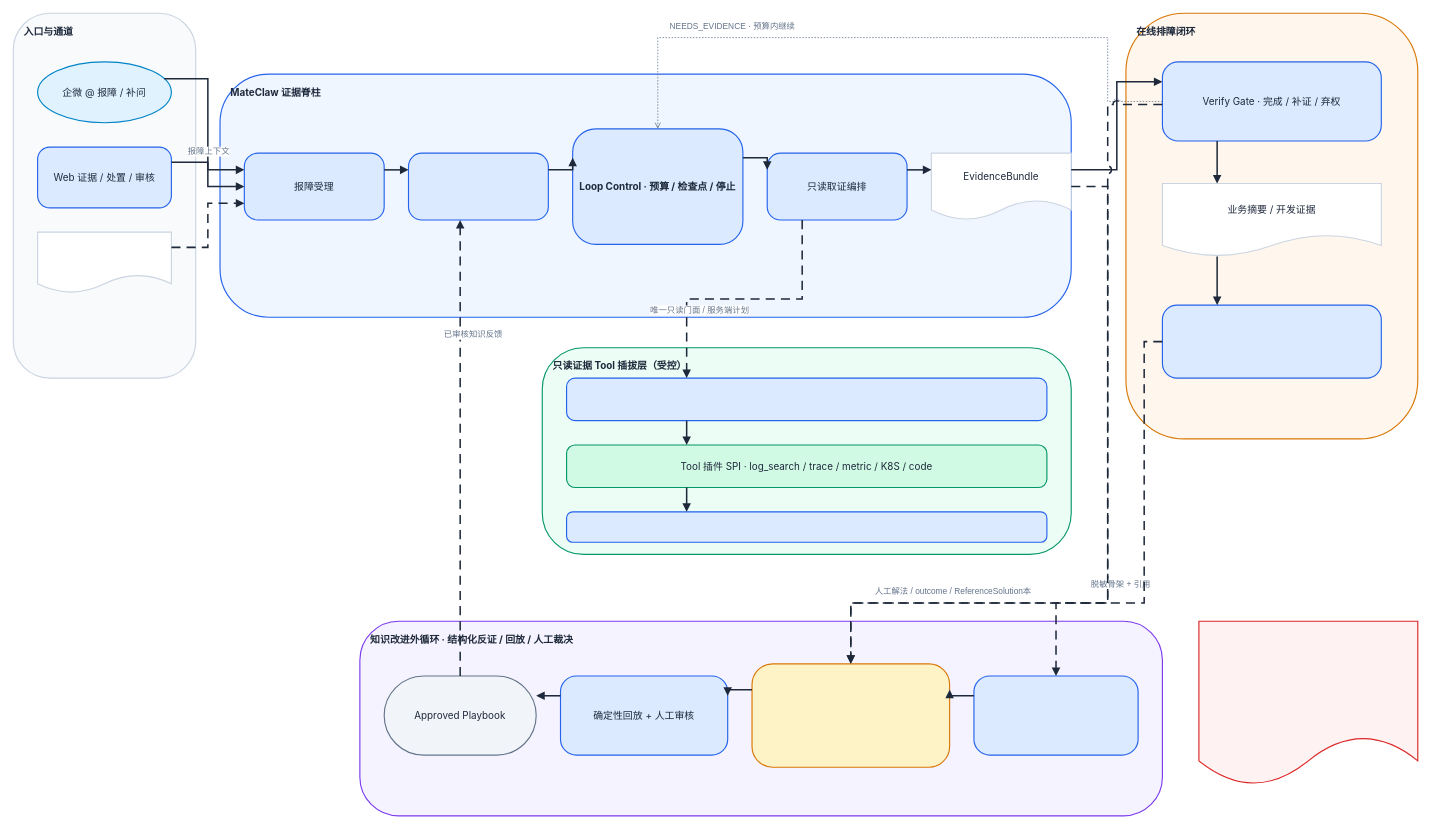
Some shapes in this 1432 by 830 pixel diagram are drawn without their labels. Each missing label, with the centre of its shape:
"Adversarial Eval · 证据质疑 / 安全质疑" belongs at [850,715].
"PlaybookDraft 合成" belongs at [1055,715].
"人工处置 / outcome / 关闭" belongs at [1272,341].
"告警 / 工单接入" belongs at [104,262].
"域内 Tool Registry · schema / 权限 / 预算 / 版本" belongs at [806,399].
"安全边界 · 写工具=0 · Loop 有界 · 共识≠证据 · 候选≠权威" belongs at [1308,703].
"来源 Adapter SPI · Guance / Replay / K8S / Git" belongs at [806,526].
"调查规划" belongs at [478,186].
